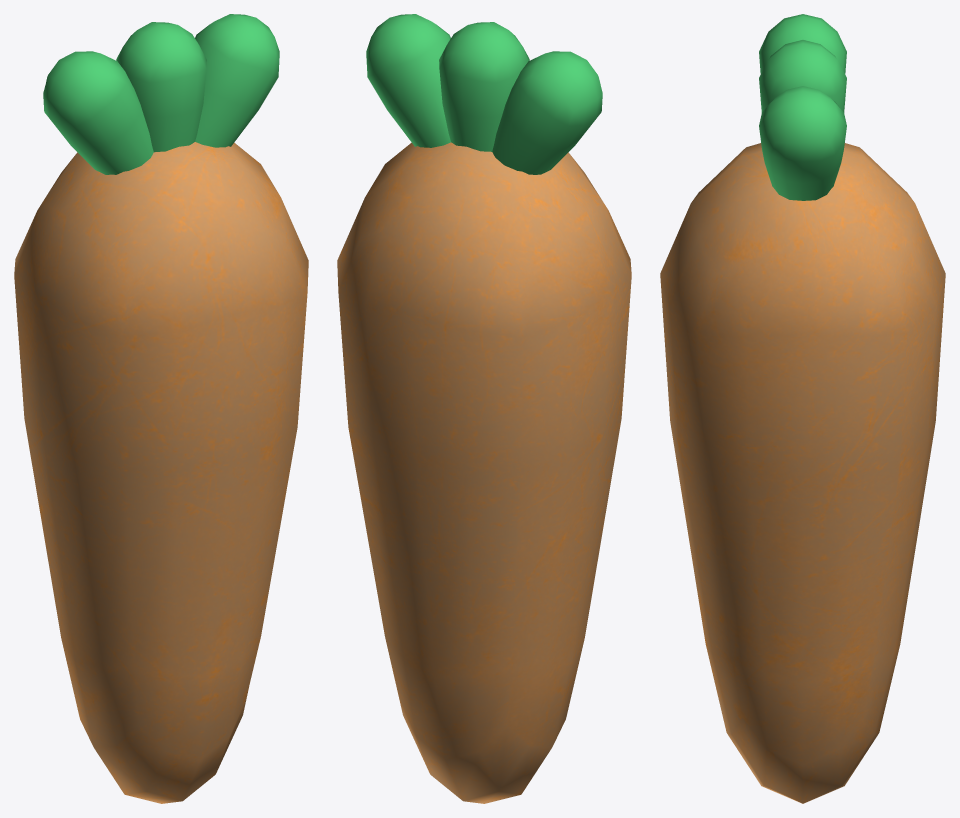
Rendered from Ninjin.fbx.
The picture shows the model from 3 angles, left to right: view 1: azimuth 30°, elevation 25°; view 2: azimuth 150°, elevation 25°; view 3: azimuth 270°, elevation 25°; orthographic projection. The views are drawn at different scales.
Parts seen in each view (by area): view 1: pCube1, pCube3, pCube2; view 2: pCube1, pCube3, pCube2; view 3: pCube1, pCube3, pCube2.
Boxes of the visible parts, <box> form: pCube1: <box>14,142,308,803</box>; pCube3: <box>43,14,279,174</box>; pCube2: <box>116,22,206,152</box>; pCube1: <box>337,142,631,803</box>; pCube3: <box>366,14,602,174</box>; pCube2: <box>439,22,529,151</box>; pCube1: <box>660,143,945,803</box>; pCube3: <box>759,14,846,200</box>; pCube2: <box>759,40,846,112</box>.
Bounding box in the file's own units: 2.07 × 6.08 × 2.07.
